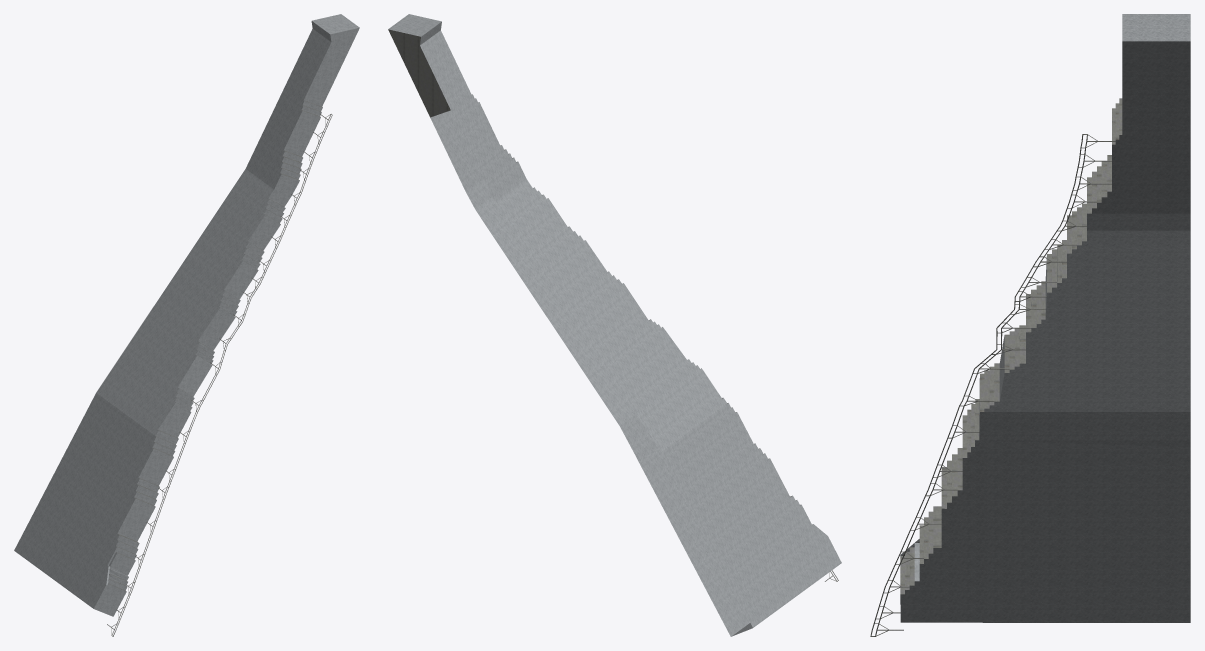
Rendered from Lyhike_jalg_trepp.obj.
3 renders of one model, left to right at view 1: azimuth 30°, elevation 25°; view 2: azimuth 150°, elevation 25°; view 3: azimuth 270°, elevation 25°, orthographic. The views are drawn at different scales.
Visible parts, largest first — view 1: Lyhike_jalg_trepp; view 2: Lyhike_jalg_trepp; view 3: Lyhike_jalg_trepp.
Part boxes in pixels (x1,y1,x2,y2): Lyhike_jalg_trepp: (14,14,359,636); Lyhike_jalg_trepp: (388,14,841,636); Lyhike_jalg_trepp: (870,14,1190,636).
Size of the model in its own units: 25.32 by 35.64 by 11.8.
Materials: 2 (2 with a texture image).
